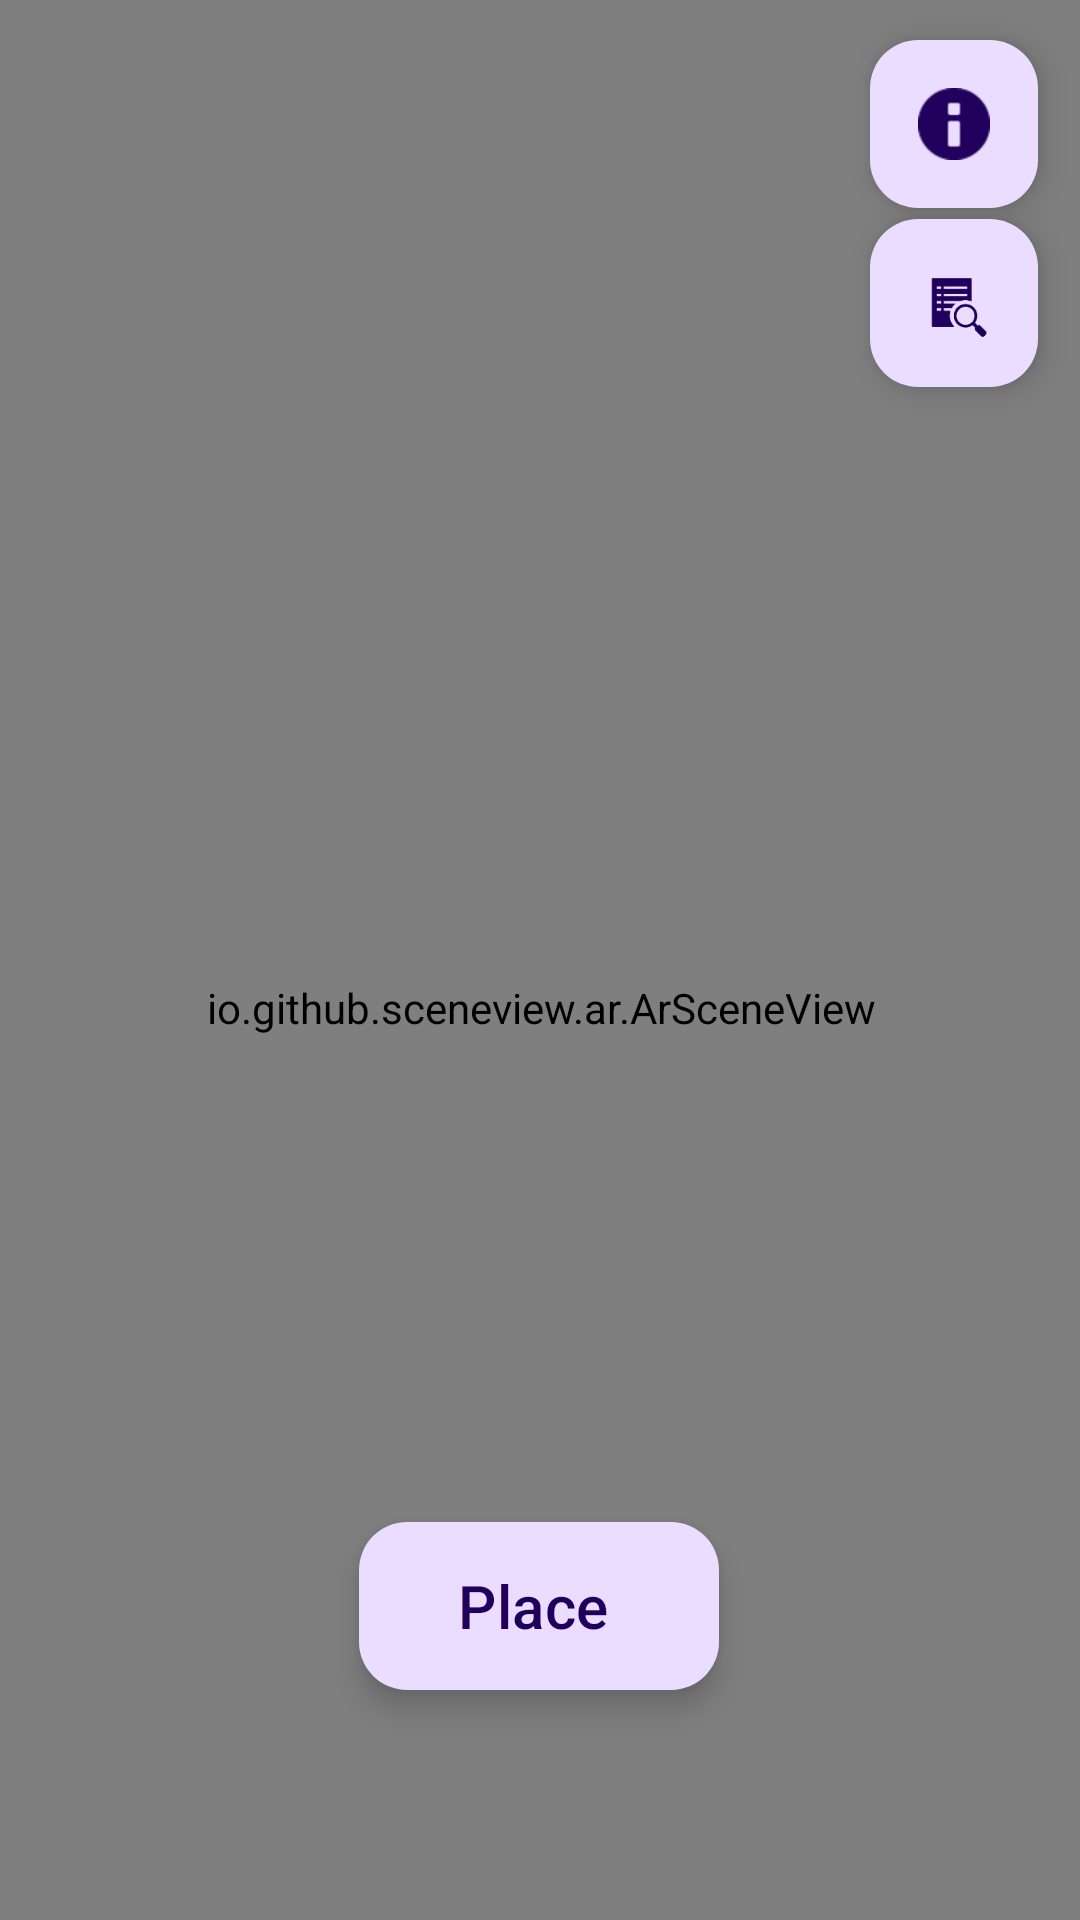

Icon bounding boxes for this 1080x1920 phone screenshot, format rect(x1, y1, x2, y2):
info: rect(870, 40, 1038, 208)
